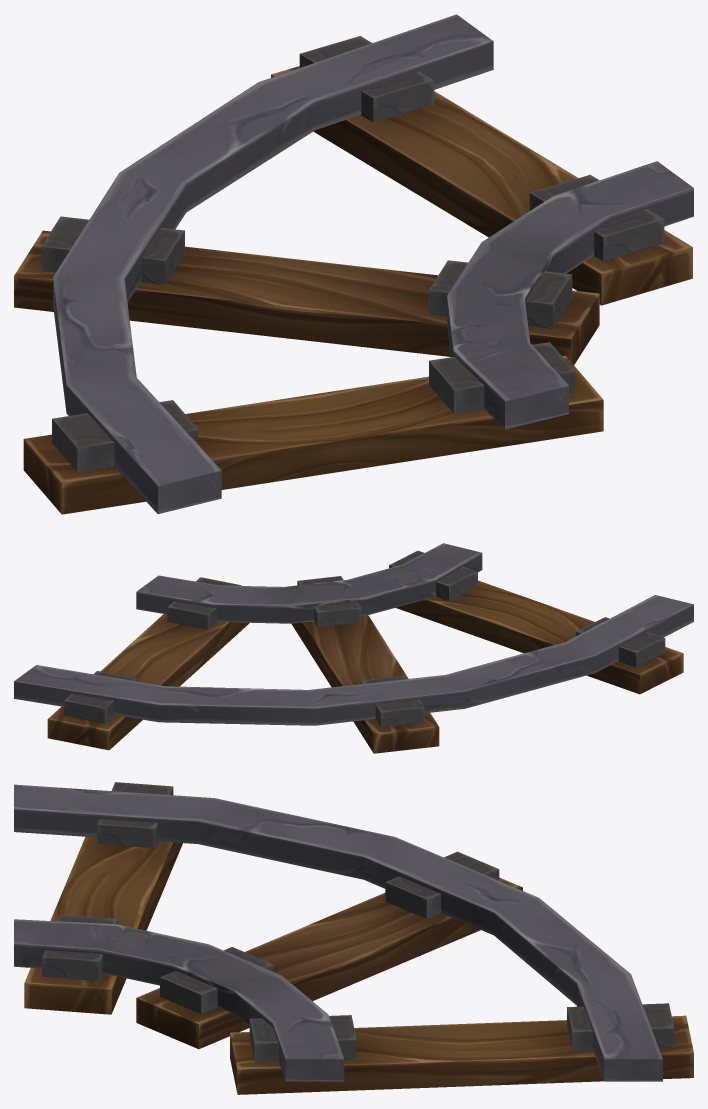
The model's file is Railway_3.FBX.
The picture shows the model from 3 angles, top to bottom: view 1: azimuth 30°, elevation 25°; view 2: azimuth 150°, elevation 25°; view 3: azimuth 270°, elevation 25°; orthographic projection. The views are drawn at different scales.
Visible parts, largest first — view 1: Railway_3; view 2: Railway_3; view 3: Railway_3.
Boxes of the visible parts, bbox=[...] form: Railway_3: bbox=[14, 14, 693, 514]; Railway_3: bbox=[14, 543, 693, 753]; Railway_3: bbox=[14, 782, 693, 1094].
Size of what is drawn, in the model's own units: 372 by 369 by 28.95.
